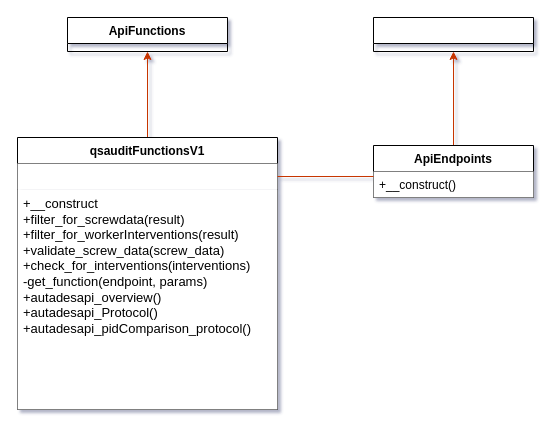
The diagram is 557 pixels wide and 436 high, and some of its shapes have lost their labels. The shapes that lost their labels are listed below. From the top down, each one's box as (x1, y1, x2, y2) in pixels, then its label:
(372, 16, 534, 52): \moduleApiRouter
(17, 163, 277, 189): -url string
